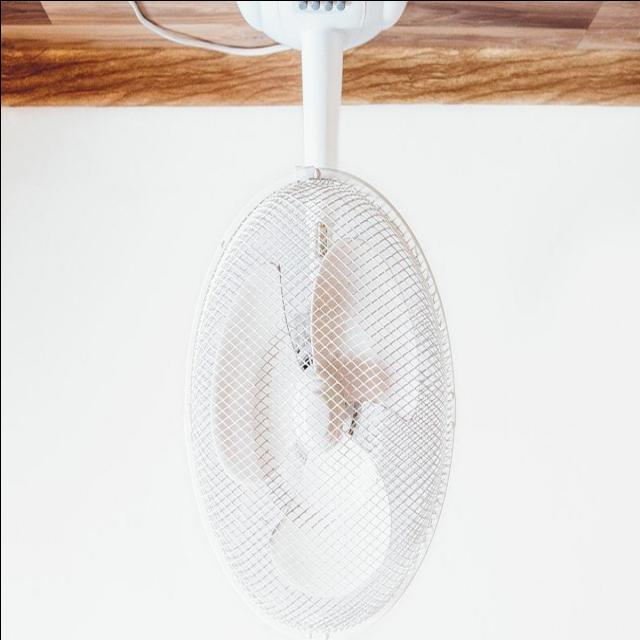fan: (184, 1, 451, 630)
